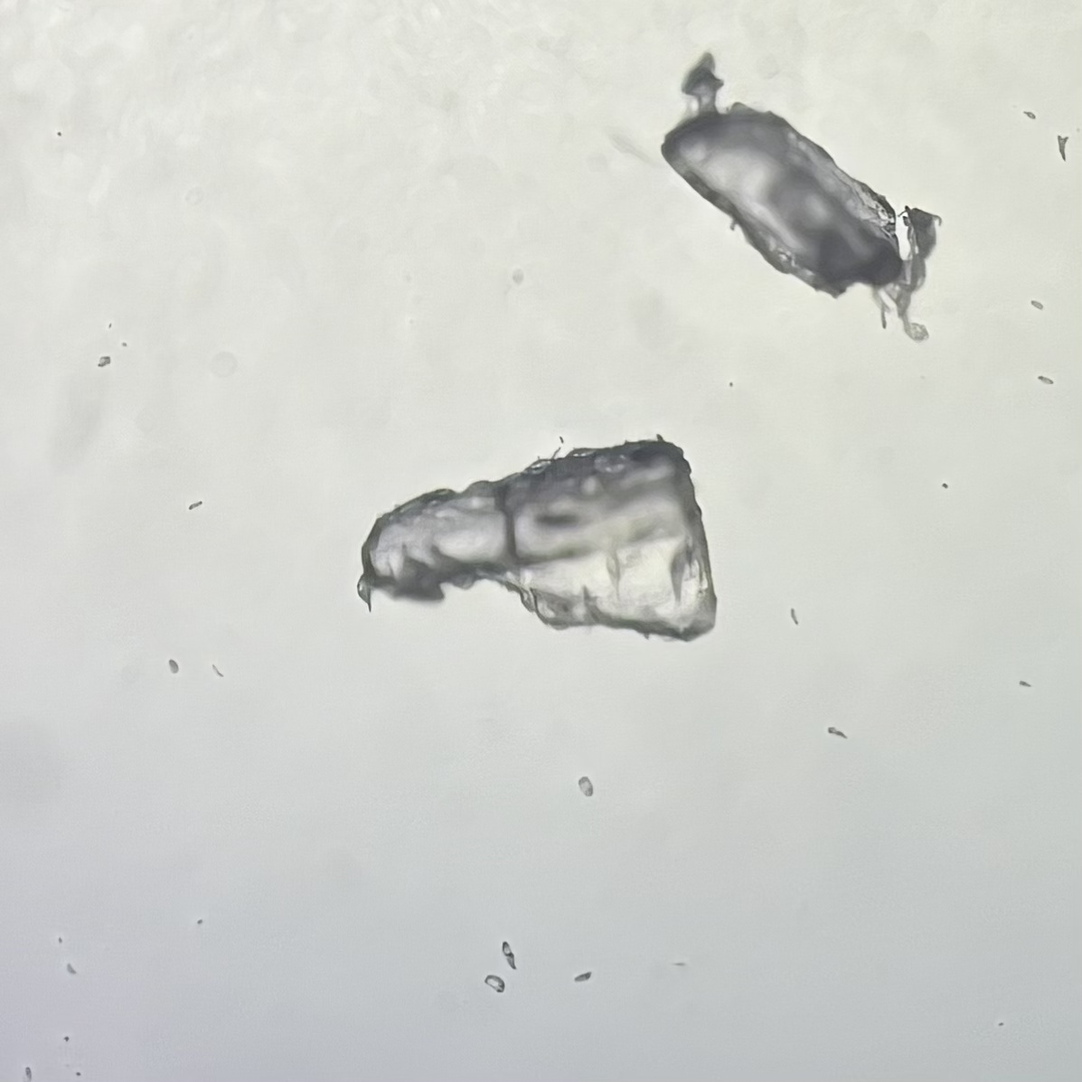microplastic: (661, 54, 940, 345), (356, 432, 720, 640), (502, 936, 518, 973), (484, 975, 504, 993), (573, 969, 593, 984), (578, 776, 592, 797)
